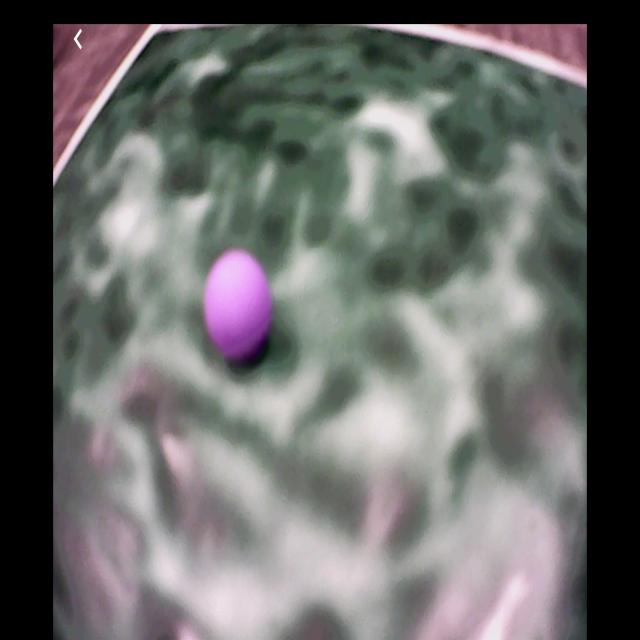ball: (203, 248, 274, 366)
